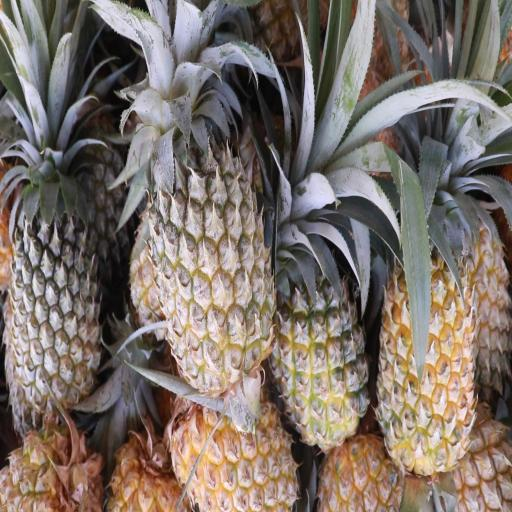------------------------------: (145, 68, 281, 403), (266, 204, 371, 456)
Pineapple - v8 v1: (373, 182, 480, 482), (166, 383, 299, 512)
